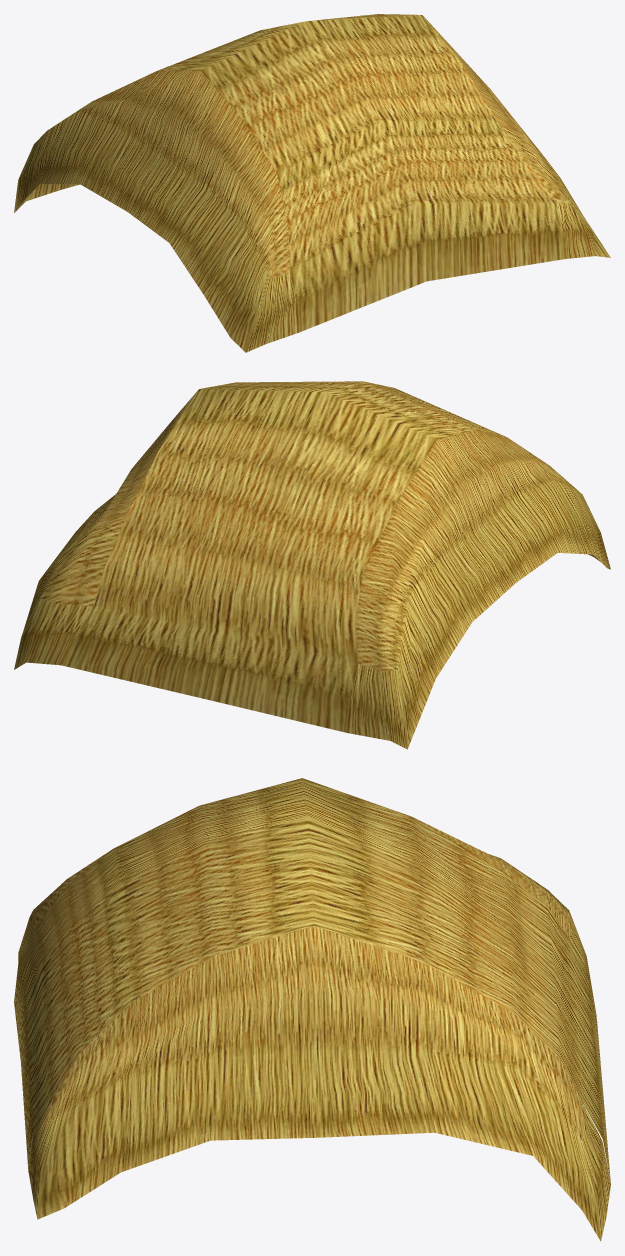
Rendered from HTOWN01_GREENDRAGROOF01.fbx.
The picture shows the model from 3 angles, top to bottom: view 1: azimuth 30°, elevation 25°; view 2: azimuth 150°, elevation 25°; view 3: azimuth 270°, elevation 25°; orthographic projection. The views are drawn at different scales.
Visible parts, largest first — view 1: HTOWN01_GREENDRAGROOF01; view 2: HTOWN01_GREENDRAGROOF01; view 3: HTOWN01_GREENDRAGROOF01.
Boxes of the visible parts, x1,y1,x2,y2 form: HTOWN01_GREENDRAGROOF01: (14,14,610,352); HTOWN01_GREENDRAGROOF01: (14,381,610,749); HTOWN01_GREENDRAGROOF01: (14,778,610,1241).
Size of the model in its own units: 21100 by 12109 by 21555.
Materials: 4 (4 with a texture image).
